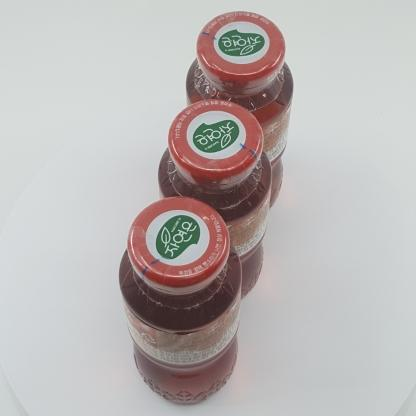-------180ML: (118, 197, 242, 405), (158, 99, 273, 300), (186, 11, 293, 210)
